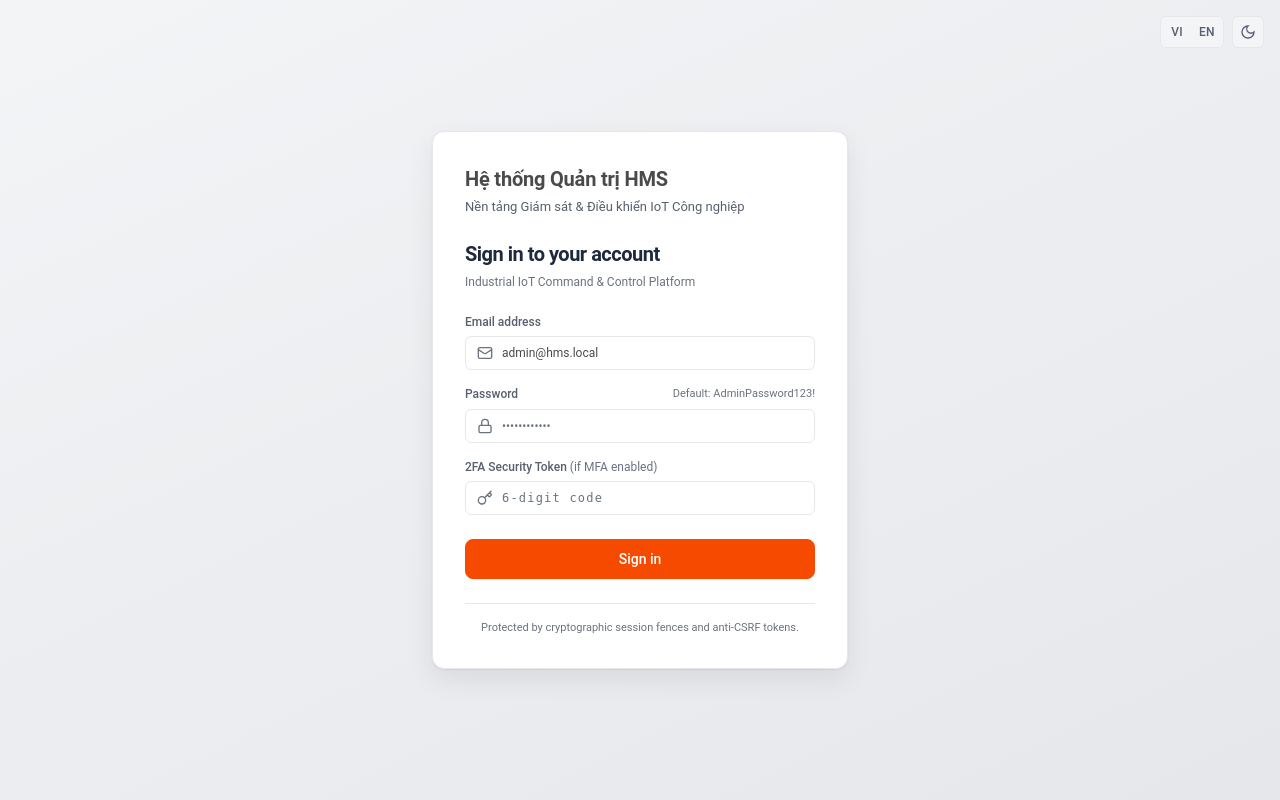
Test case: LoginView › displays error message when login fails
The image size is (1280, 800).
In the password field with test id "login-password": (640, 426) [465,409,815,443], type "WrongPassword!"
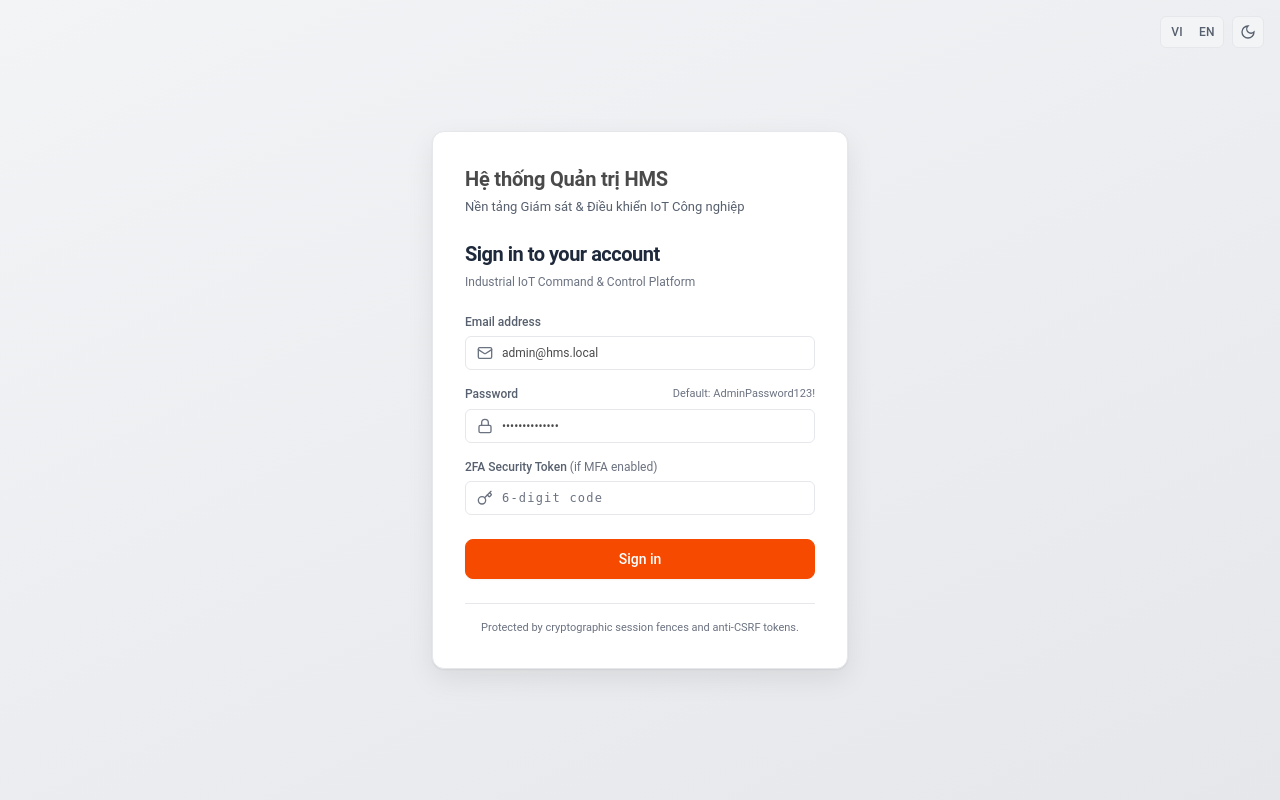
Submit the form, box [465,314,815,579]
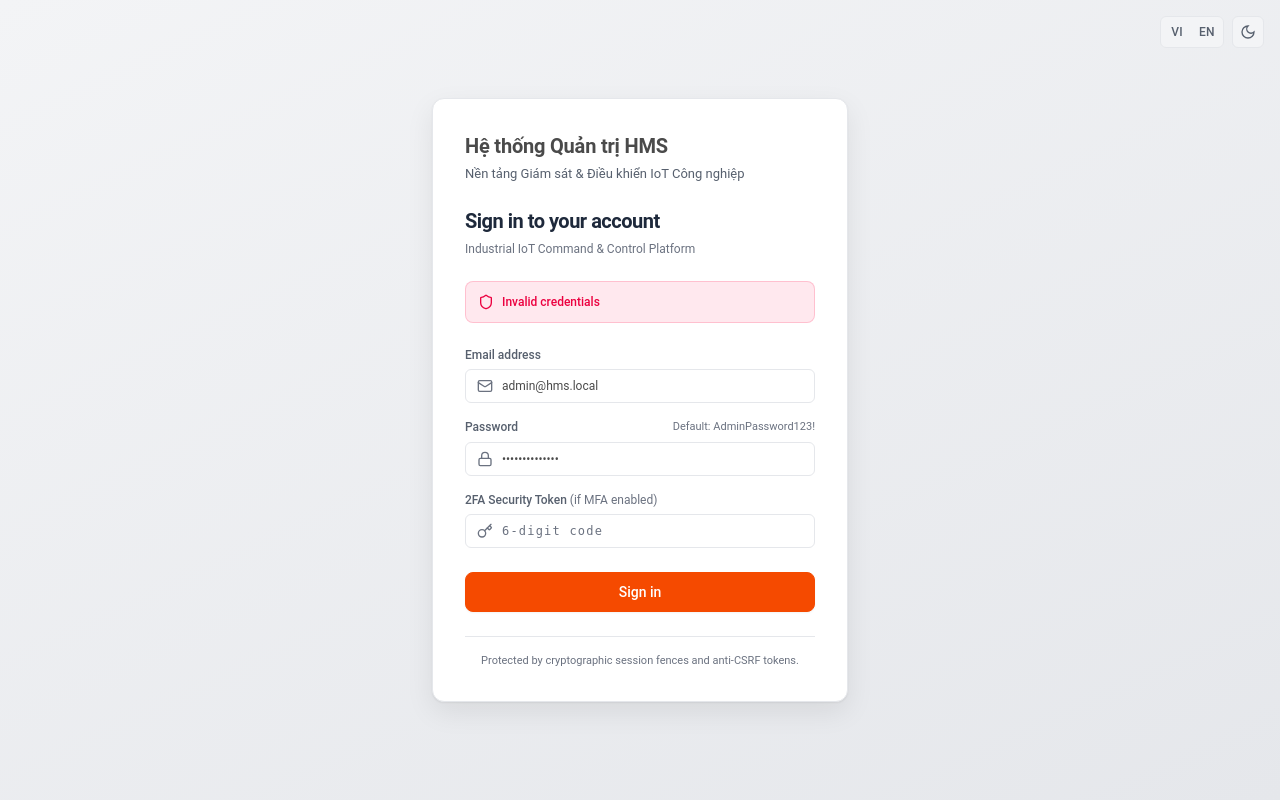
Now the element with test id "login-error" reads "Invalid credentials", box [502,295,600,309]
